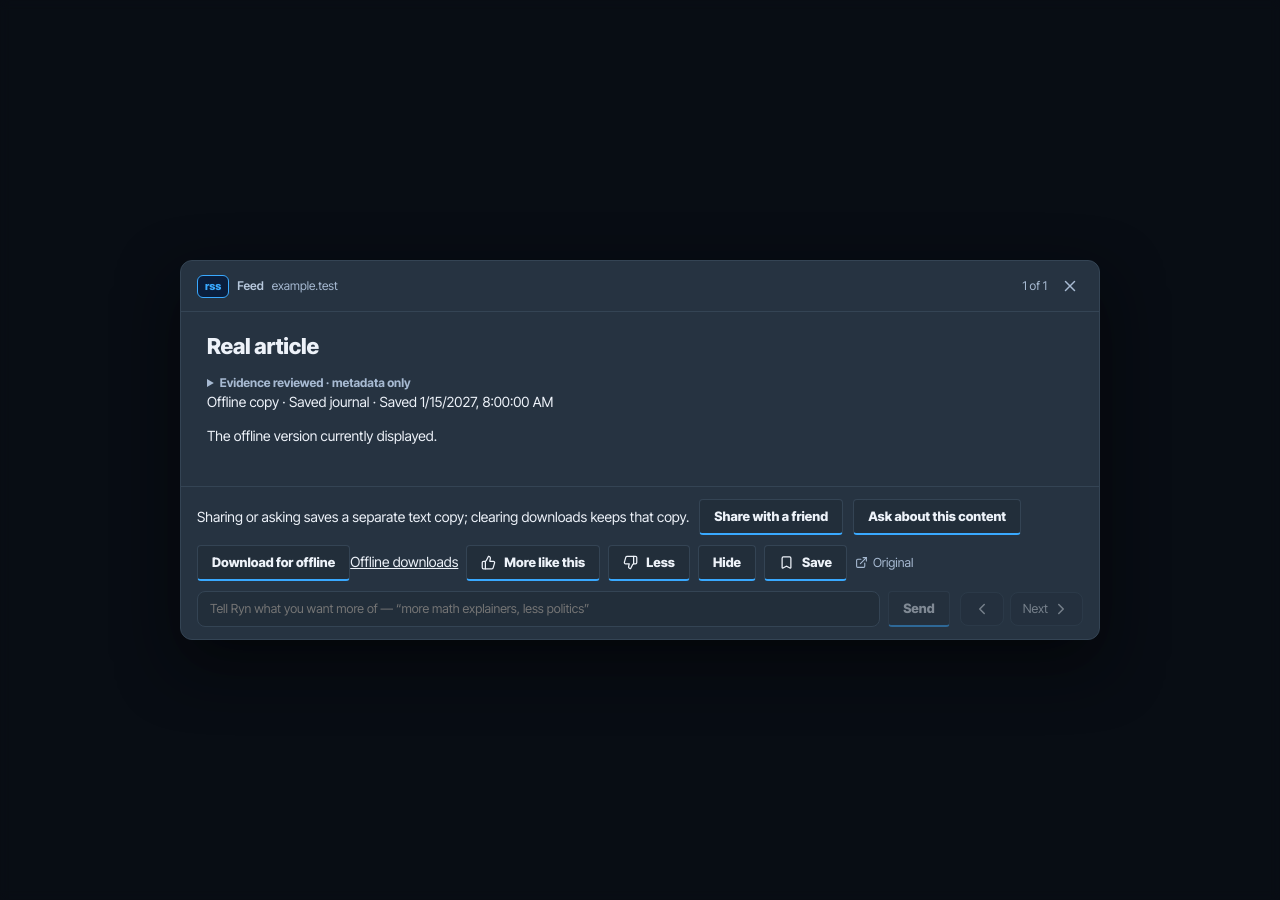
Test case: opens the committed offline version first and pins that version when preparing an Ask source
expect the text "The offline version currently displayed." is shown: met, box [207, 427, 437, 444]
expect the text "Offline copy · Saved journal · Saved 1/15/2027, 8:00:00 AM" is shown: met, box [207, 393, 553, 410]
Click the button "Ask about this content": [937, 517] box [853, 499, 1021, 535]
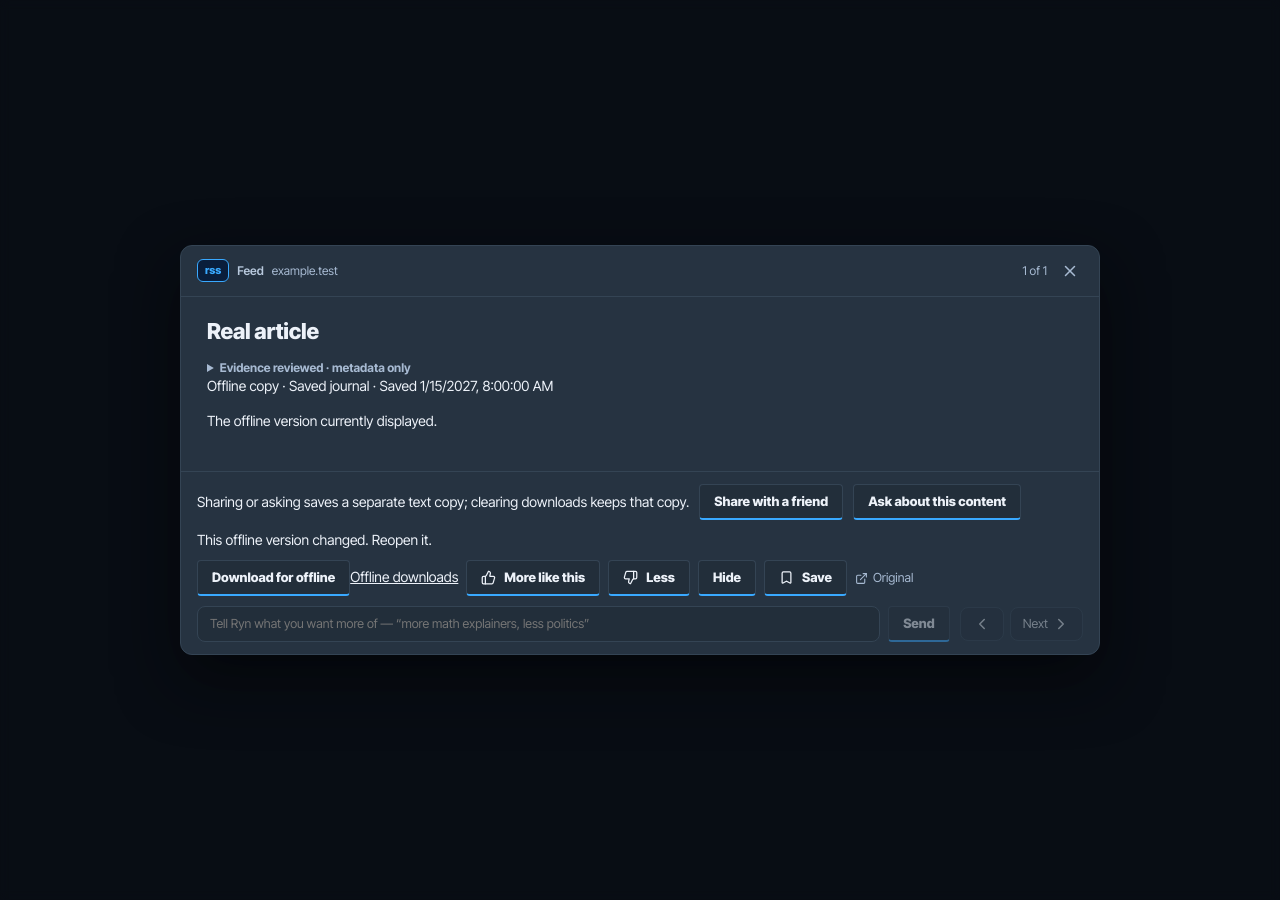
expect the message shows "version changed": met, box [197, 531, 432, 548]
